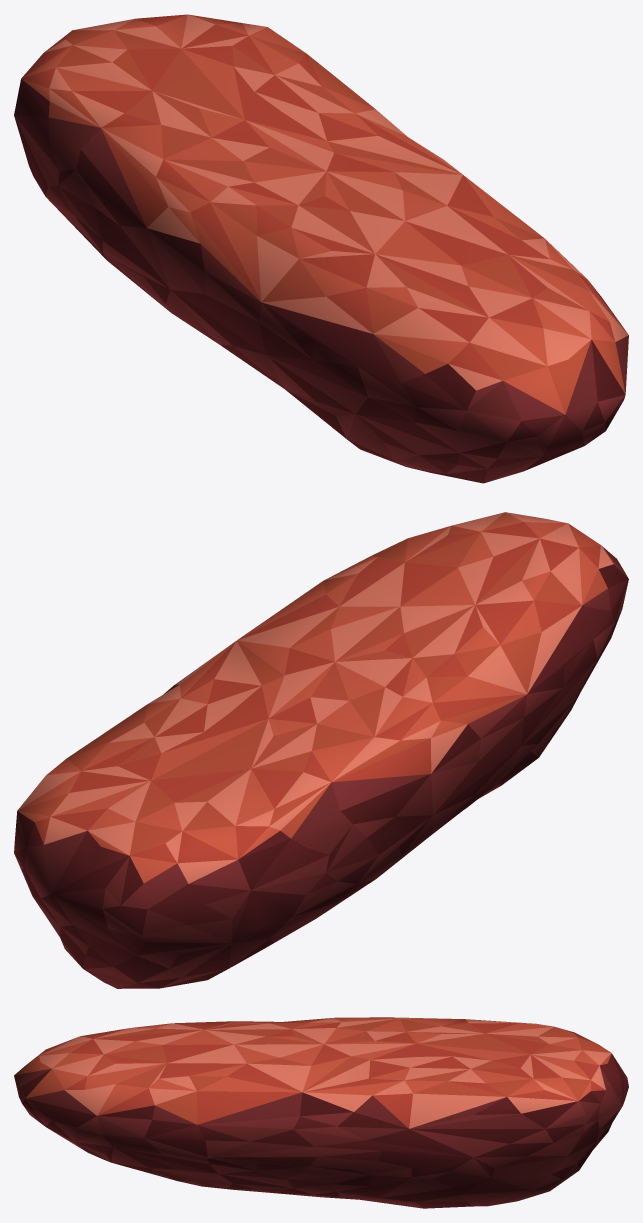
File: Rec_L_Test_LM.fbx
3 renders of one model, top to bottom at view 1: azimuth 30°, elevation 25°; view 2: azimuth 150°, elevation 25°; view 3: azimuth 270°, elevation 25°, orthographic. The views are drawn at different scales.
Parts seen in each view (by area): view 1: Recangle_Island_Low2; view 2: Recangle_Island_Low2; view 3: Recangle_Island_Low2.
Part boxes in pixels (<box>): Recangle_Island_Low2: <box>14,14,628,483</box>; Recangle_Island_Low2: <box>14,512,628,988</box>; Recangle_Island_Low2: <box>14,1017,628,1208</box>.
Bounding box in the file's own units: 1362 × 1030 × 3917.
